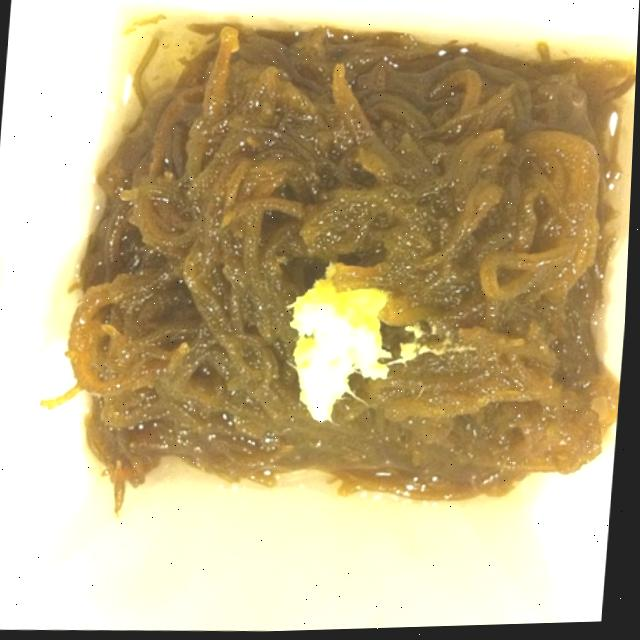蔬菜料理: (47, 0, 631, 579)
